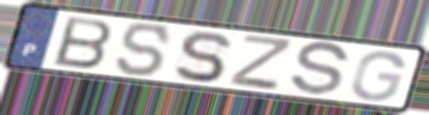B: (51, 14, 116, 70)
G: (348, 49, 407, 103)
S: (287, 40, 352, 99), (114, 21, 174, 78), (172, 29, 233, 84)
Z: (227, 33, 296, 93)
